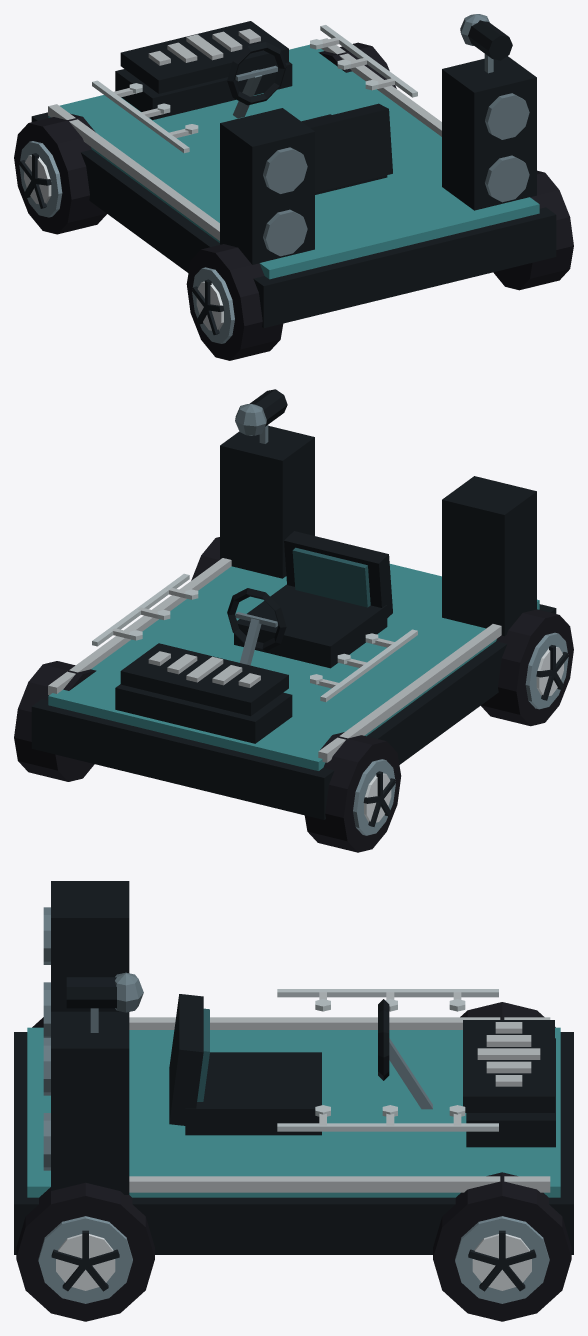
Rendered from kart.glb.
3 views of the same model, one above another, from view 1: azimuth 30°, elevation 25°; view 2: azimuth 150°, elevation 25°; view 3: azimuth 270°, elevation 25° (orthographic). The views are drawn at different scales.
Visible parts, largest first — view 1: identity-stage-stage-platform-and-pa-towers, identity-stage-driver-cockpit, wheel-rear-left, wheel-front-left, identity-stage-motif-equalizer, identity-stage-motif-circuit, wheel-rear-right, identity-stage-motif-microphone, wheel-front-right; view 2: identity-stage-stage-platform-and-pa-towers, identity-stage-driver-cockpit, wheel-front-left, wheel-rear-left, identity-stage-motif-equalizer, wheel-front-right, identity-stage-motif-circuit, identity-stage-motif-microphone; view 3: identity-stage-stage-platform-and-pa-towers, identity-stage-driver-cockpit, wheel-front-right, wheel-rear-right, identity-stage-motif-equalizer, identity-stage-motif-circuit, identity-stage-motif-microphone, wheel-front-left.
Part boxes in pixels (bbox=[...]): identity-stage-stage-platform-and-pa-towers: bbox=[31, 38, 556, 328]; identity-stage-driver-cockpit: bbox=[227, 42, 392, 194]; wheel-rear-left: bbox=[186, 244, 283, 360]; wheel-front-left: bbox=[14, 113, 106, 234]; identity-stage-motif-equalizer: bbox=[120, 21, 288, 93]; identity-stage-motif-circuit: bbox=[92, 25, 417, 153]; wheel-rear-right: bbox=[493, 170, 573, 290]; identity-stage-motif-microphone: bbox=[460, 14, 512, 73]; wheel-front-right: bbox=[318, 42, 396, 88]; identity-stage-stage-platform-and-pa-towers: bbox=[31, 426, 556, 819]; identity-stage-driver-cockpit: bbox=[227, 531, 392, 668]; wheel-front-left: bbox=[304, 732, 401, 852]; wheel-rear-left: bbox=[481, 609, 573, 726]; identity-stage-motif-equalizer: bbox=[120, 643, 288, 716]; wheel-front-right: bbox=[14, 661, 96, 781]; identity-stage-motif-circuit: bbox=[92, 573, 417, 701]; identity-stage-motif-microphone: bbox=[235, 389, 287, 443]; identity-stage-stage-platform-and-pa-towers: bbox=[14, 881, 573, 1254]; identity-stage-driver-cockpit: bbox=[169, 994, 432, 1135]; wheel-front-right: bbox=[433, 1172, 571, 1321]; wheel-rear-right: bbox=[16, 1182, 154, 1321]; identity-stage-motif-equalizer: bbox=[463, 1020, 554, 1112]; identity-stage-motif-circuit: bbox=[277, 989, 498, 1131]; identity-stage-motif-microphone: bbox=[66, 972, 143, 1032]; wheel-front-left: bbox=[460, 1002, 555, 1027].
Bounding box in the file's own units: 2.16 × 1.57 × 2.5.
